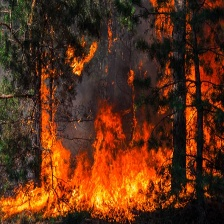fire: (4, 2, 222, 219)
